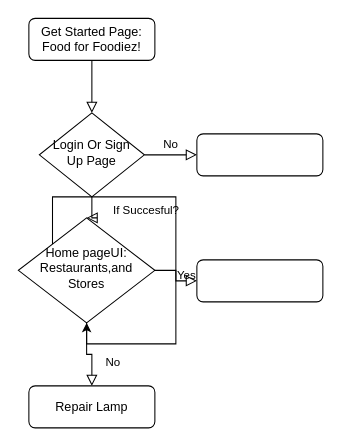
This 341x446 diagram has some shape labels left out. The box of each missing label's shape, as (x1, y1, x2, y2) in pixels:
Plug in lamp: (196, 133, 323, 176)
Replace Bulb: (196, 259, 323, 302)
